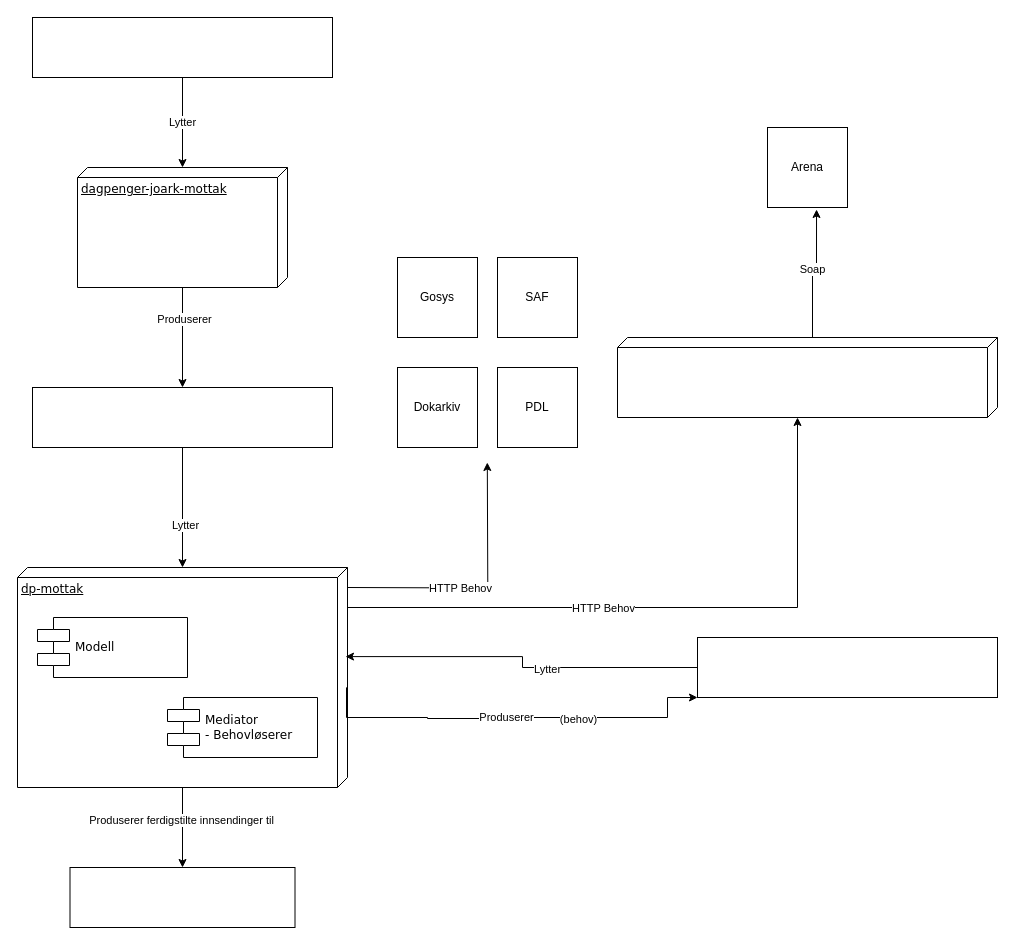
Some shapes in this 1015 by 945 pixel diagram are drawn without their labels. The shapes that lost their labels are listed below. From the top down, each one's box as (x1, y1, x2, y2) in pixels, then its label:
(32, 16, 332, 78): teamdokumenthandtering.aapen-dok-journalfoering
(616, 336, 998, 418): dp-proxy
(32, 386, 332, 448): teamdagpenger.mottak.v1
(696, 636, 998, 698): teamdagpenger.rapid.v1
(69, 866, 295, 928): teamdagpenger.journalforing.v1
